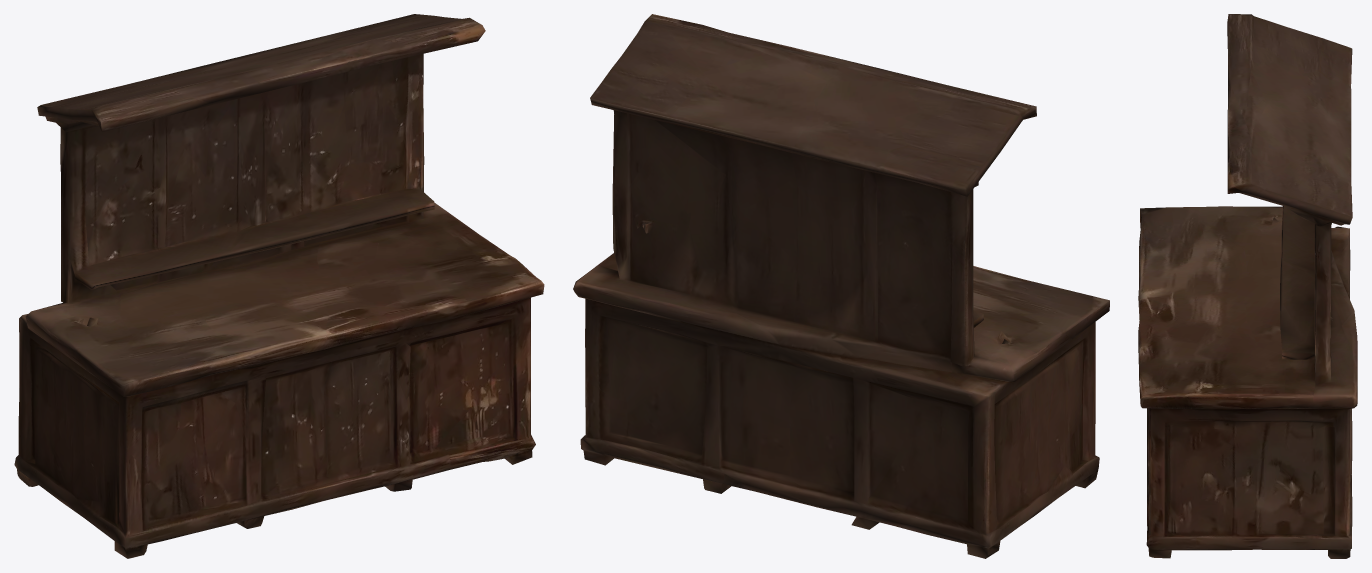
File: inn-counter.glb
The picture shows the model from 3 angles, left to right: view 1: azimuth 30°, elevation 25°; view 2: azimuth 150°, elevation 25°; view 3: azimuth 270°, elevation 25°; orthographic projection. The views are drawn at different scales.
Parts seen in each view (by area): view 1: tripo_node_51866a5c-d69c-43ae-a8ee-098004ee6375; view 2: tripo_node_51866a5c-d69c-43ae-a8ee-098004ee6375; view 3: tripo_node_51866a5c-d69c-43ae-a8ee-098004ee6375.
Boxes of the visible parts, x1,y1,x2,y2 form: tripo_node_51866a5c-d69c-43ae-a8ee-098004ee6375: (14,14,544,558); tripo_node_51866a5c-d69c-43ae-a8ee-098004ee6375: (573,14,1109,558); tripo_node_51866a5c-d69c-43ae-a8ee-098004ee6375: (1138,14,1357,558).
Bounding box in the file's own units: 1 × 0.9163 × 0.4875.
1 material, 1 textured.
